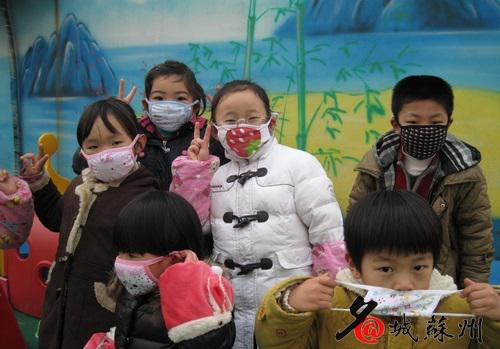NONE: (363, 246, 433, 318)
OK: (113, 245, 170, 297), (220, 105, 273, 158), (86, 132, 138, 182), (401, 109, 449, 157), (148, 84, 194, 130)
